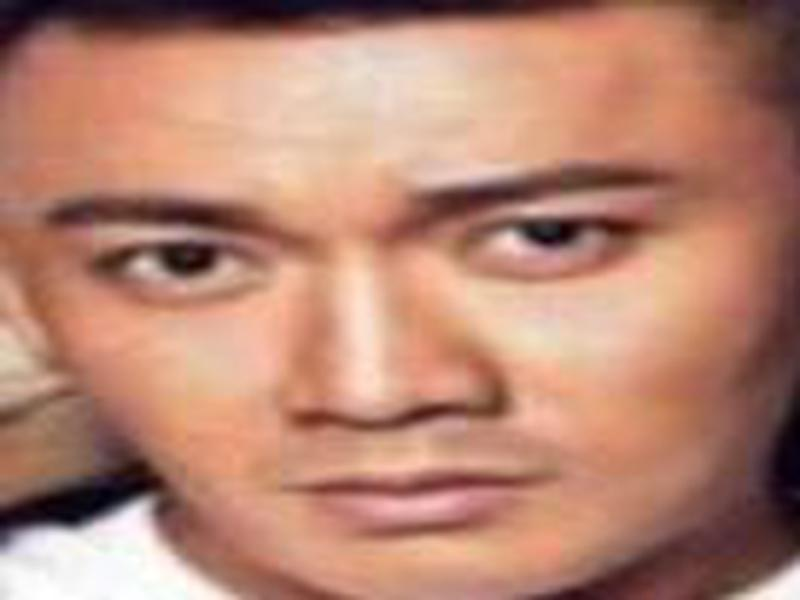without_mask: (12, 27, 783, 600)
